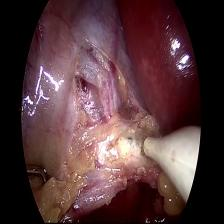Hook: (130, 125, 203, 191)
